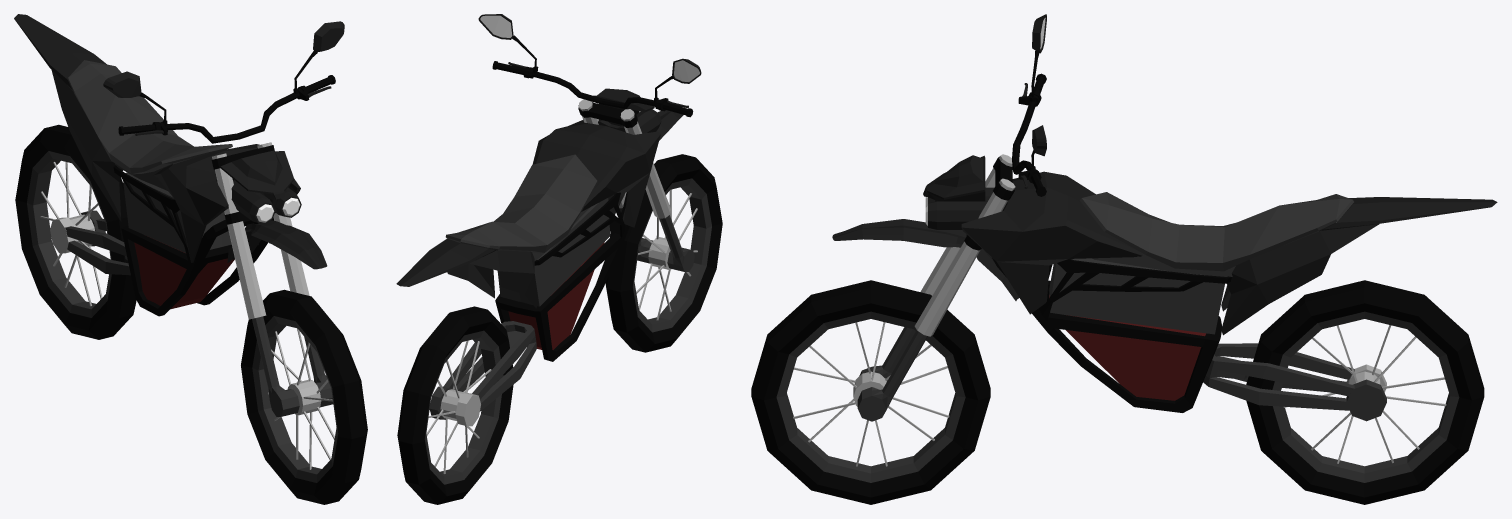
The picture shows the model from 3 angles, left to right: view 1: azimuth 30°, elevation 25°; view 2: azimuth 150°, elevation 25°; view 3: azimuth 270°, elevation 25°; orthographic projection. The views are drawn at different scales.
Parts seen in each view (by area): view 1: Plane.006, Plane.007, Cylinder.005, Cylinder.008; view 2: Plane.006, Cylinder.008, Cylinder.005, Plane.007; view 3: Plane.006, Cylinder.005, Cylinder.008, Plane.007.
Part boxes in pixels (x1,y1,x2,y2): Plane.006: [14, 14, 300, 316]; Plane.007: [103, 21, 344, 416]; Cylinder.005: [241, 289, 367, 504]; Cylinder.008: [15, 124, 136, 339]; Plane.006: [396, 120, 660, 426]; Cylinder.008: [397, 306, 513, 504]; Cylinder.005: [605, 154, 722, 352]; Plane.007: [478, 14, 701, 271]; Plane.006: [961, 171, 1497, 421]; Cylinder.005: [751, 280, 990, 504]; Cylinder.008: [1246, 280, 1484, 504]; Plane.007: [832, 14, 1046, 421].
Bounding box in the file's own units: 72.51 × 112 × 177.
